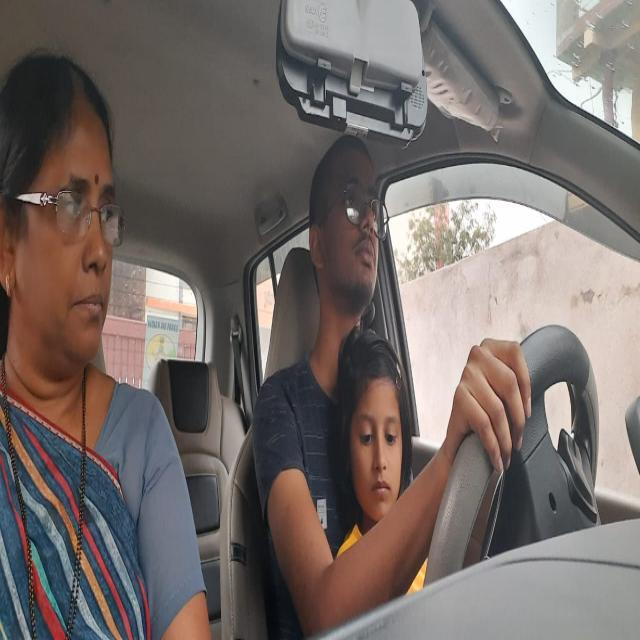child: (332, 324, 410, 528)
person: (0, 42, 125, 382), (306, 131, 388, 320)
